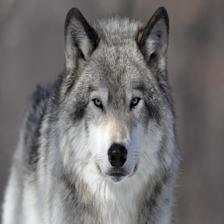WOLF: (64, 9, 175, 224)
